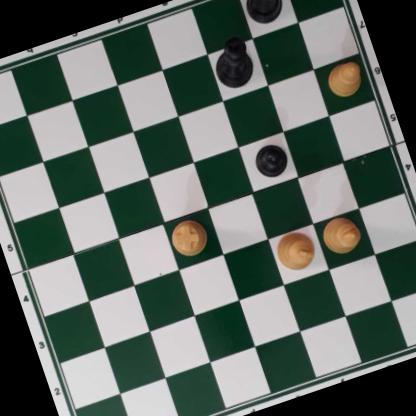black-king: (205, 32, 260, 93)
black-pawn: (250, 138, 292, 182)
black-rook: (235, 0, 293, 28)
white-bishop: (318, 211, 366, 259)
white-king: (269, 225, 321, 277)
white-pawn: (322, 56, 368, 102)
white-rook: (167, 215, 213, 261)
